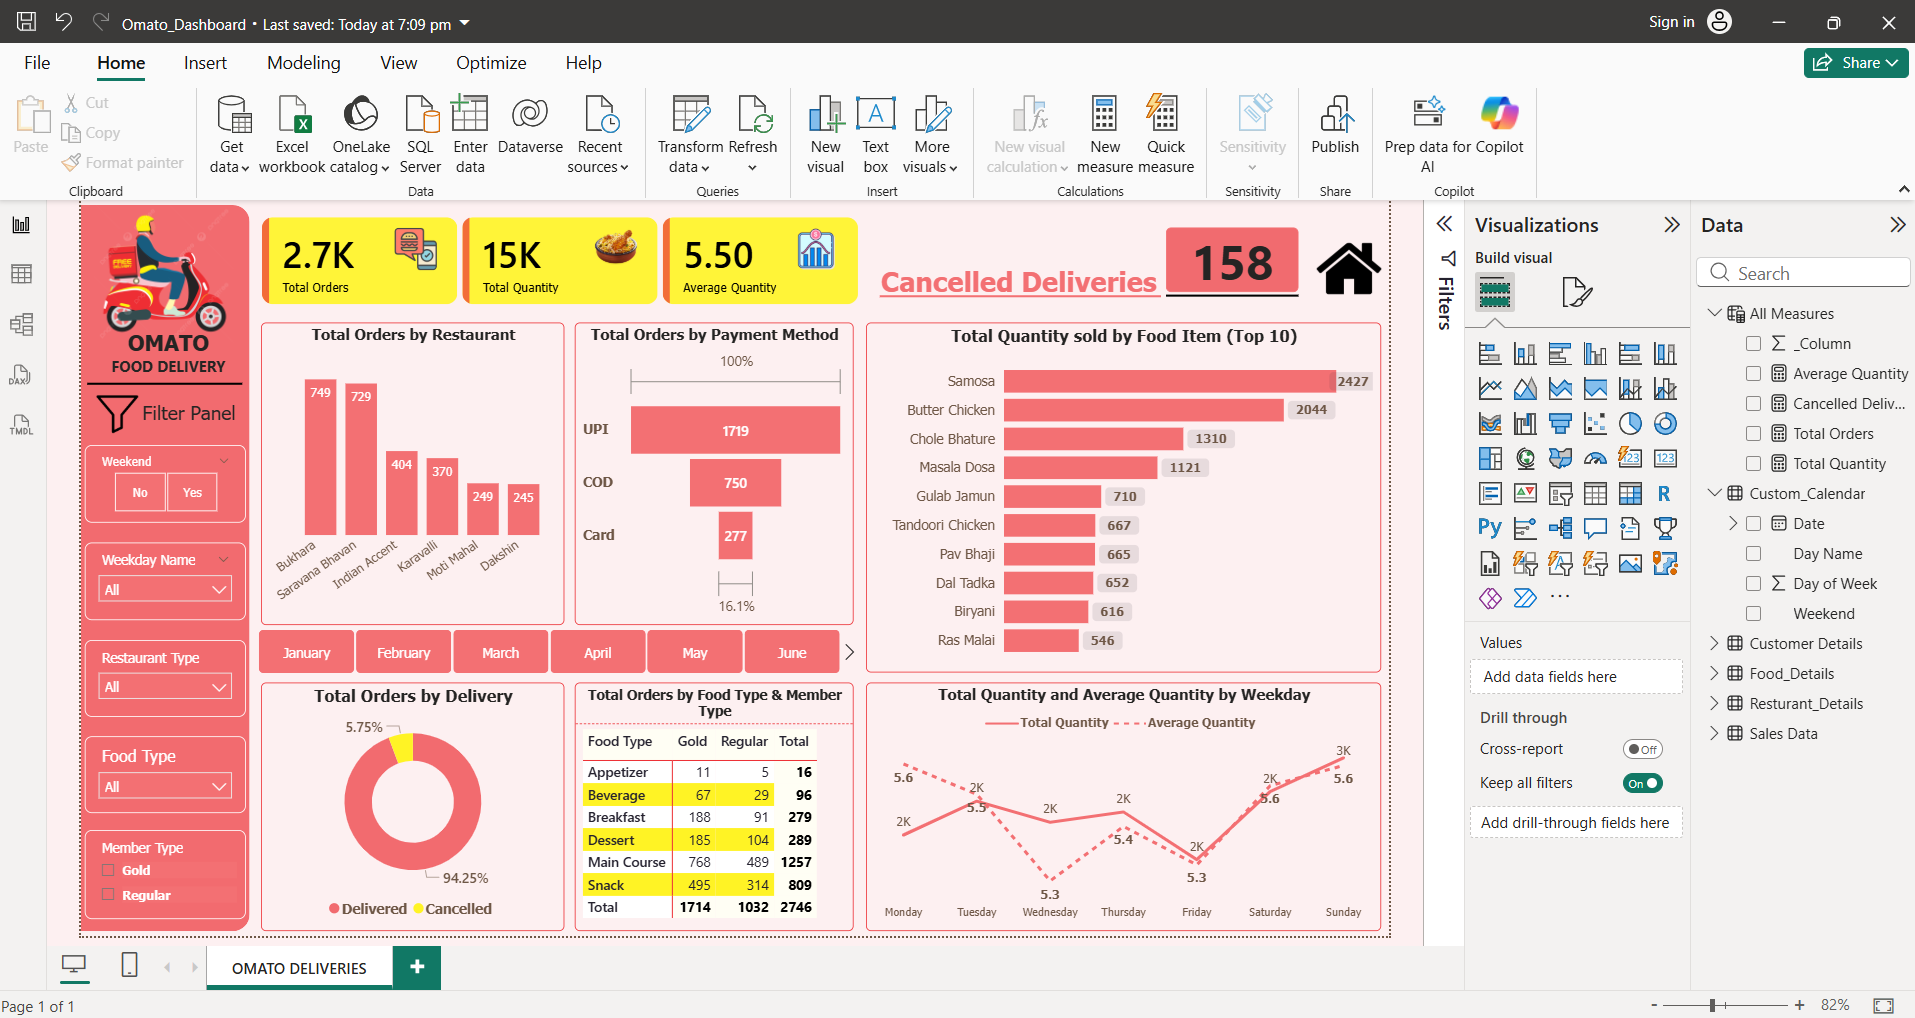

This screenshot's page, from the dashboard's own definition file:
{"tool":"powerbi","page":{"name":"OMATO DELIVERIES","canvas":[1280,720],"ordinal":0},"visuals":[{"type":"shape","box":[0,4.9,165.1,710.5],"z":0},{"type":"image","box":[9.8,0,144.3,144.3],"z":1000},{"type":"cardVisual","fields":{"Data":["All Measures.Total Orders","All Measures.Total Quantity","All Measures.Average Quantity"]},"box":[160.2,0,617,119.8],"z":2000},{"type":"donutChart","title":"Total Orders by Delivery","fields":{"Y":["All Measures.Total Orders"],"Category":["Sales Data.Delivery_Status"]},"box":[176.1,472,297.1,243.3],"z":3000},{"type":"pivotTable","title":"Total Orders by Food Type & Member Type","fields":{"Rows":["Food_Details.Food_Type"],"Columns":["Customer Details.Member_Type"],"Values":["All Measures.Total Orders"]},"box":[483,472,272.7,243.3],"z":4000},{"type":"funnel","title":"Total Orders by Payment Method","fields":{"Category":["Sales Data.Payment_Method"],"Y":["All Measures.Total Orders"]},"box":[483,119.8,272.7,295.9],"z":5000},{"type":"clusteredBarChart","title":"Total Quantity sold by Food Item (Top 10)","fields":{"Category":["Food_Details.Food_Item"],"Y":["All Measures.Total Quantity"]},"box":[767.9,119.8,503.8,342],"z":6000},{"type":"lineChart","title":"Total Quantity and Average Quantity by Weekday","fields":{"Category":["Custom_Calendar.Day Name"],"Y":["All Measures.Total Quantity"],"Y2":["All Measures.Average Quantity"]},"box":[767.9,472,503.8,243.3],"z":7000},{"type":"clusteredColumnChart","title":"Total Orders by Restaurant","fields":{"Y":["All Measures.Total Orders"],"Category":["Resturant_Details.Restaurant_Name"]},"box":[176.1,119.8,297.1,295.9],"z":8000},{"type":"advancedSlicerVisual","fields":{"Values":["Custom_Calendar.Date.Variation.Date Hierarchy.Month"]},"box":[149,416,618.8,52],"z":9000},{"type":"textbox","box":[24.5,121,122.3,66],"z":10000},{"type":"shape","box":[6,173.6,151.6,12.2],"z":11000},{"type":"slicer","fields":{"Values":["Custom_Calendar.Weekend"]},"box":[4,240,157.7,75.8],"z":12000},{"type":"slicer","fields":{"Values":["Custom_Calendar.Day Name"]},"box":[3.7,335,157.7,75.8],"z":13000},{"type":"slicer","fields":{"Values":["Resturant_Details.Restaurant_Type"]},"box":[4,431,157.7,75],"z":14000},{"type":"slicer","fields":{"Values":["Food_Details.Food_Type"]},"box":[4,525,157.7,75],"z":15000},{"type":"slicer","fields":{"Values":["Customer Details.Member_Type"]},"box":[4,616.3,157.7,87],"z":16000},{"type":"textbox","box":[777.7,58.7,353.4,50.1],"z":17000},{"type":"card","fields":{"Values":["All Measures.Successful Deliveries"]},"box":[1061.4,26.9,129.6,63.6],"z":18000},{"type":"shape","box":[781.4,88,275.1,12.2],"z":19000},{"type":"shape","box":[1061.4,88,129.6,11],"z":20000},{"type":"textbox","box":[50,192,111.3,35.5],"z":21000},{"type":"image","box":[0,189.5,70.9,40.4],"z":22000},{"type":"image","box":[1203.3,35.5,74.6,63.6],"z":23000}]}

Visuals, with their boxes on the page's 1280x720 design canvas (x1, y1, x2, y2). These are canvas units, not pixel positions in the 1915x1018 screenshot, which may show the page scaled, cropped or inside an application window:
shape: bbox=(0, 5, 165, 715)
image: bbox=(10, 0, 154, 144)
cardVisual - All Measures.Total Orders x All Measures.Total Quantity: bbox=(160, 0, 777, 120)
"Total Orders by Delivery" donutChart: bbox=(176, 472, 473, 715)
"Total Orders by Food Type & Member Type" pivotTable: bbox=(483, 472, 756, 715)
"Total Orders by Payment Method" funnel: bbox=(483, 120, 756, 416)
"Total Quantity sold by Food Item (Top 10)" clusteredBarChart: bbox=(768, 120, 1272, 462)
"Total Quantity and Average Quantity by Weekday" lineChart: bbox=(768, 472, 1272, 715)
"Total Orders by Restaurant" clusteredColumnChart: bbox=(176, 120, 473, 416)
advancedSlicerVisual - Custom_Calendar.Date.Variation.Date Hierarchy.Month: bbox=(149, 416, 768, 468)
textbox: bbox=(24, 121, 147, 187)
shape: bbox=(6, 174, 158, 186)
slicer - Custom_Calendar.Weekend: bbox=(4, 240, 162, 316)
slicer - Custom_Calendar.Day Name: bbox=(4, 335, 161, 411)
slicer - Resturant_Details.Restaurant_Type: bbox=(4, 431, 162, 506)
slicer - Food_Details.Food_Type: bbox=(4, 525, 162, 600)
slicer - Customer Details.Member_Type: bbox=(4, 616, 162, 703)
textbox: bbox=(778, 59, 1131, 109)
card - All Measures.Successful Deliveries: bbox=(1061, 27, 1191, 90)
shape: bbox=(781, 88, 1056, 100)
shape: bbox=(1061, 88, 1191, 99)
textbox: bbox=(50, 192, 161, 228)
image: bbox=(0, 190, 71, 230)
image: bbox=(1203, 36, 1278, 99)
